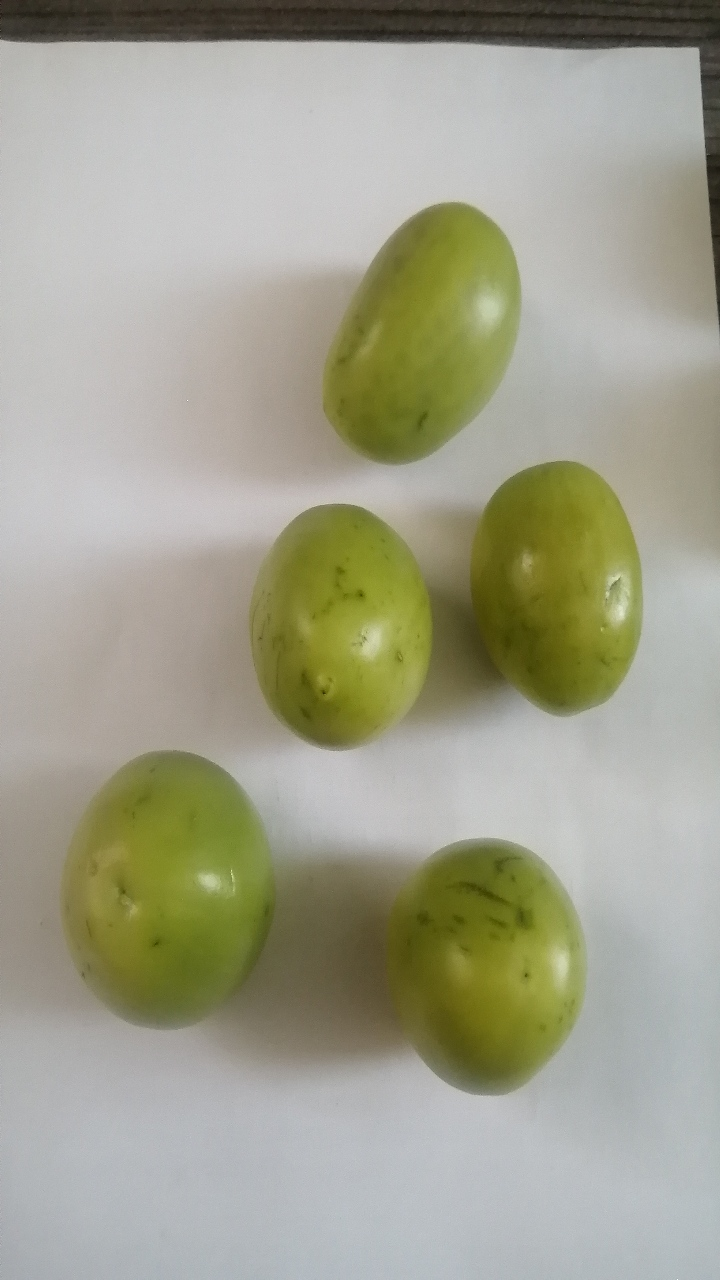tomateVerde: (34, 734, 295, 1052), (301, 168, 549, 494), (363, 825, 608, 1108), (224, 466, 457, 754), (461, 452, 654, 735)
